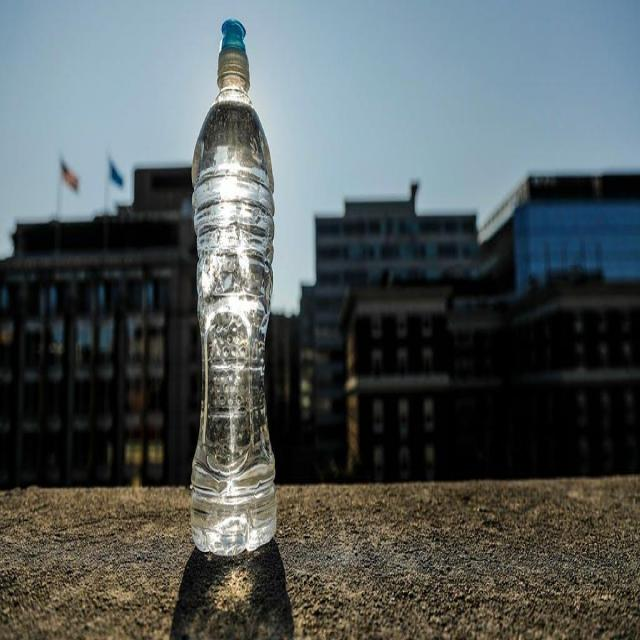plastic_bottle: (189, 12, 286, 553)
